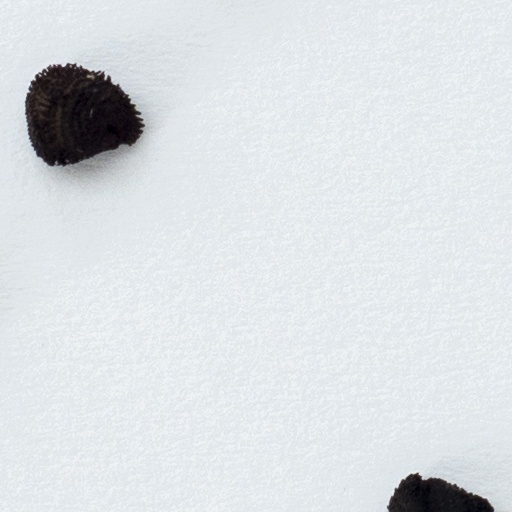Agrostemma: (23, 62, 147, 168), (382, 469, 499, 511)
